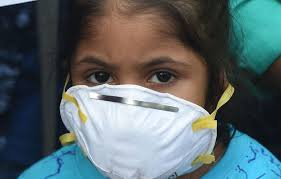mask: (53, 3, 241, 179)
